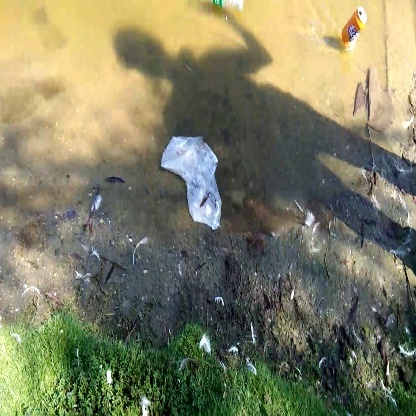bottle: (334, 5, 372, 51)
plastic-bag: (161, 130, 229, 230)
